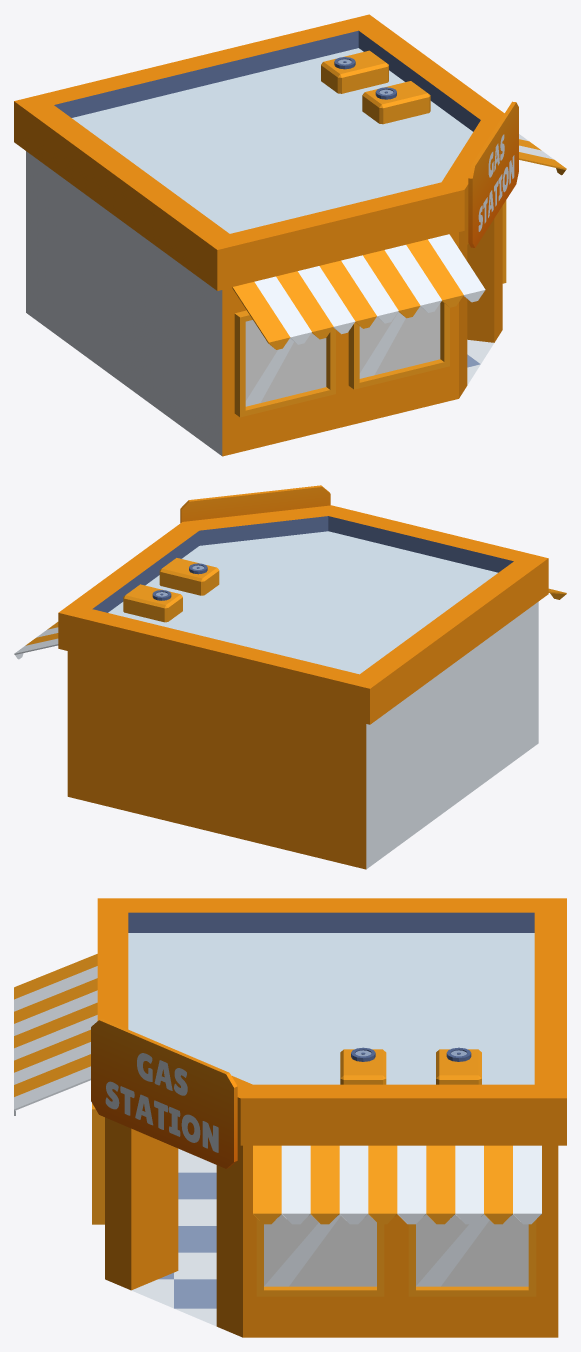
The model's file is gas.fbx.
3 renders of one model, top to bottom at view 1: azimuth 30°, elevation 25°; view 2: azimuth 150°, elevation 25°; view 3: azimuth 270°, elevation 25°, orthographic. The views are drawn at different scales.
Parts seen in each view (by area): view 1: bg6.001; view 2: bg6.001; view 3: bg6.001.
Boxes of the visible parts, left/top/right/bottom form: bg6.001: left=14, top=14, right=566, bottom=456; bg6.001: left=14, top=485, right=566, bottom=869; bg6.001: left=14, top=898, right=566, bottom=1337.
Size of the model in its own units: 141 by 74.63 by 140.
